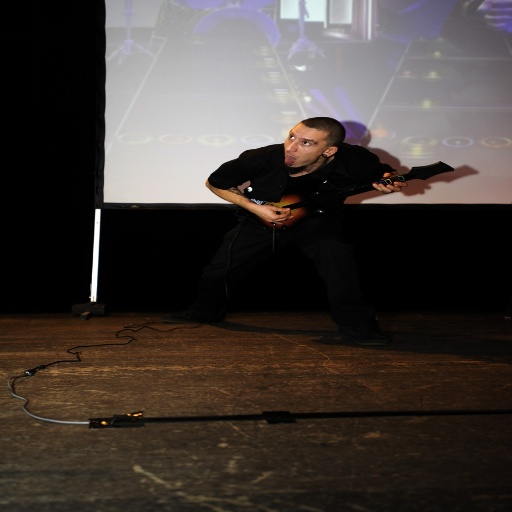hand: (370, 170, 409, 195), (256, 204, 293, 226)
